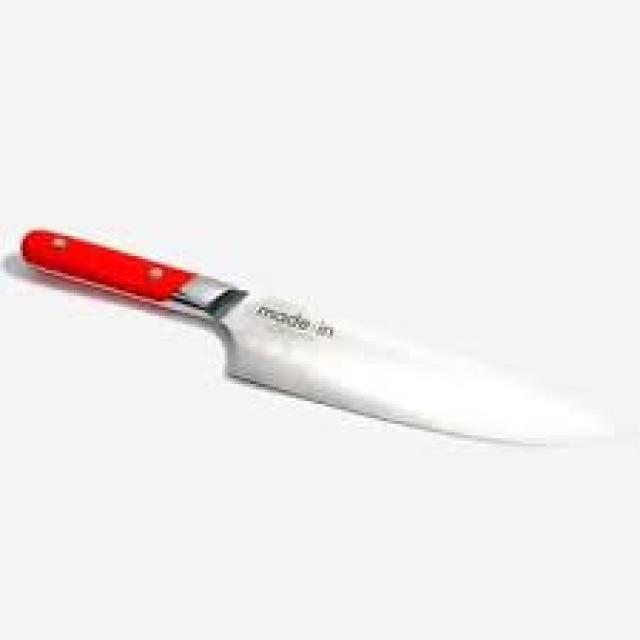knives: (0, 219, 617, 458)
